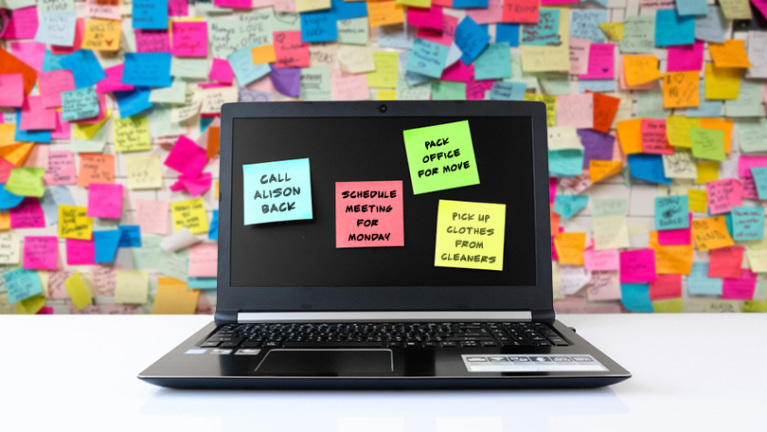Note: (403, 120, 483, 197), (429, 199, 505, 273), (333, 179, 406, 248), (243, 158, 314, 223)
